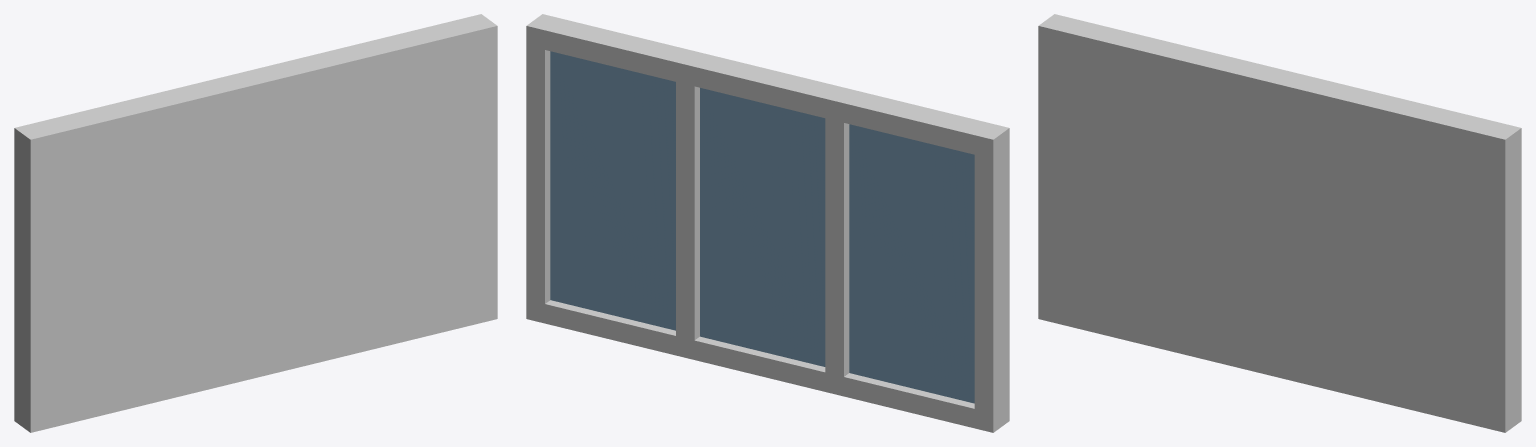
The model's file is ThreeBigWindow.fbx.
3 views of the same model, side by side, from view 1: azimuth 30°, elevation 25°; view 2: azimuth 150°, elevation 25°; view 3: azimuth 330°, elevation 25° (orthographic).
Visible parts, largest first — view 1: ThreeBigWindow; view 2: ThreeBigWindow; view 3: ThreeBigWindow.
Part boxes in pixels (x1=…): ThreeBigWindow: x1=14, y1=14, x2=497, y2=432; ThreeBigWindow: x1=526, y1=14, x2=1009, y2=432; ThreeBigWindow: x1=1038, y1=14, x2=1521, y2=432.
Size of the model in its own units: 500 by 300 by 30.
